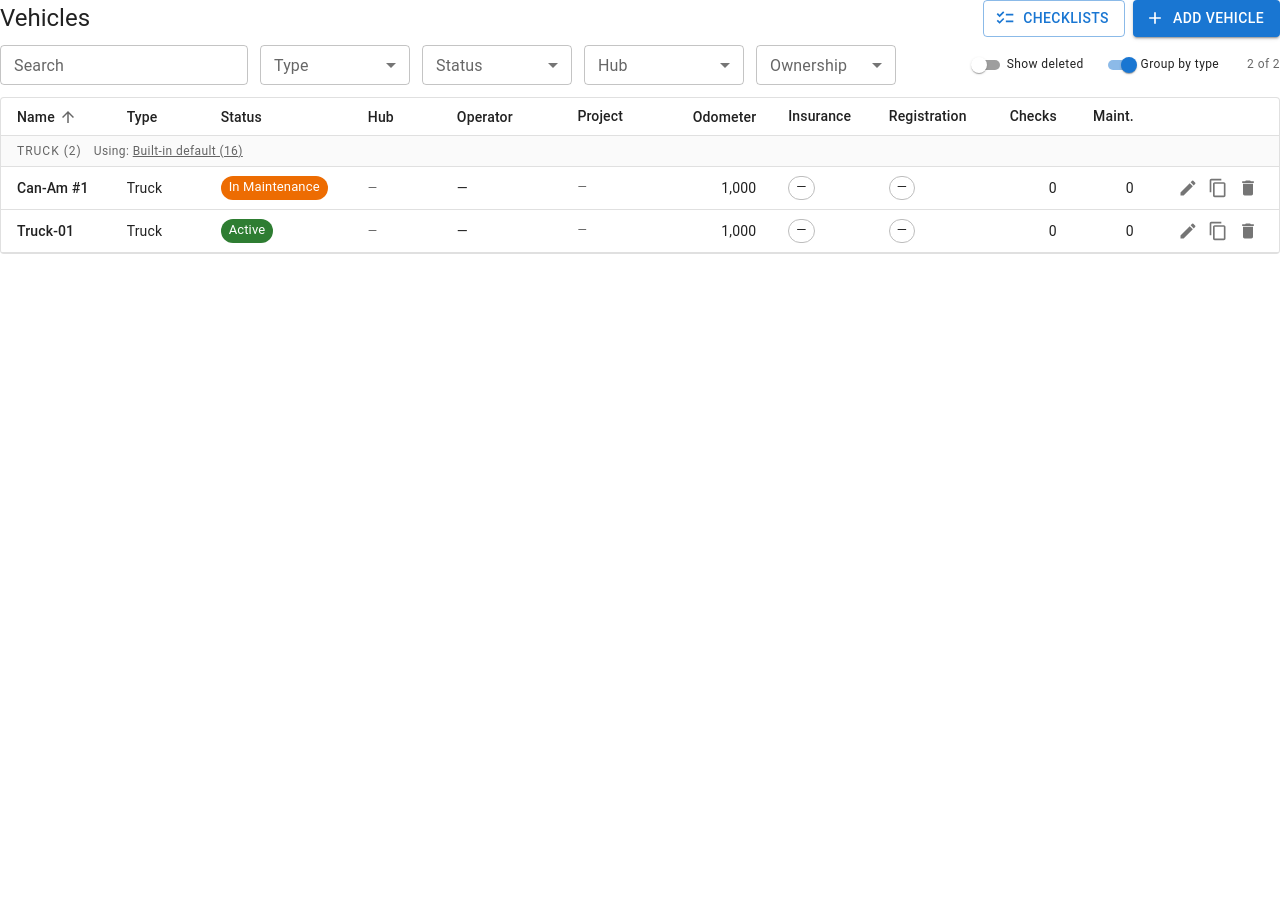
Test: vehicles — Delete, Undo, Show deleted → Restore, ?status= › Delete → toast with Undo, which posts restore
Expected: the text "Truck-01" is shown, [17,221,74,241]
Click the button named "Delete" in the row of "Truck-01". click: {"x": 1248, "y": 231}
box: [1233,216,1263,246]
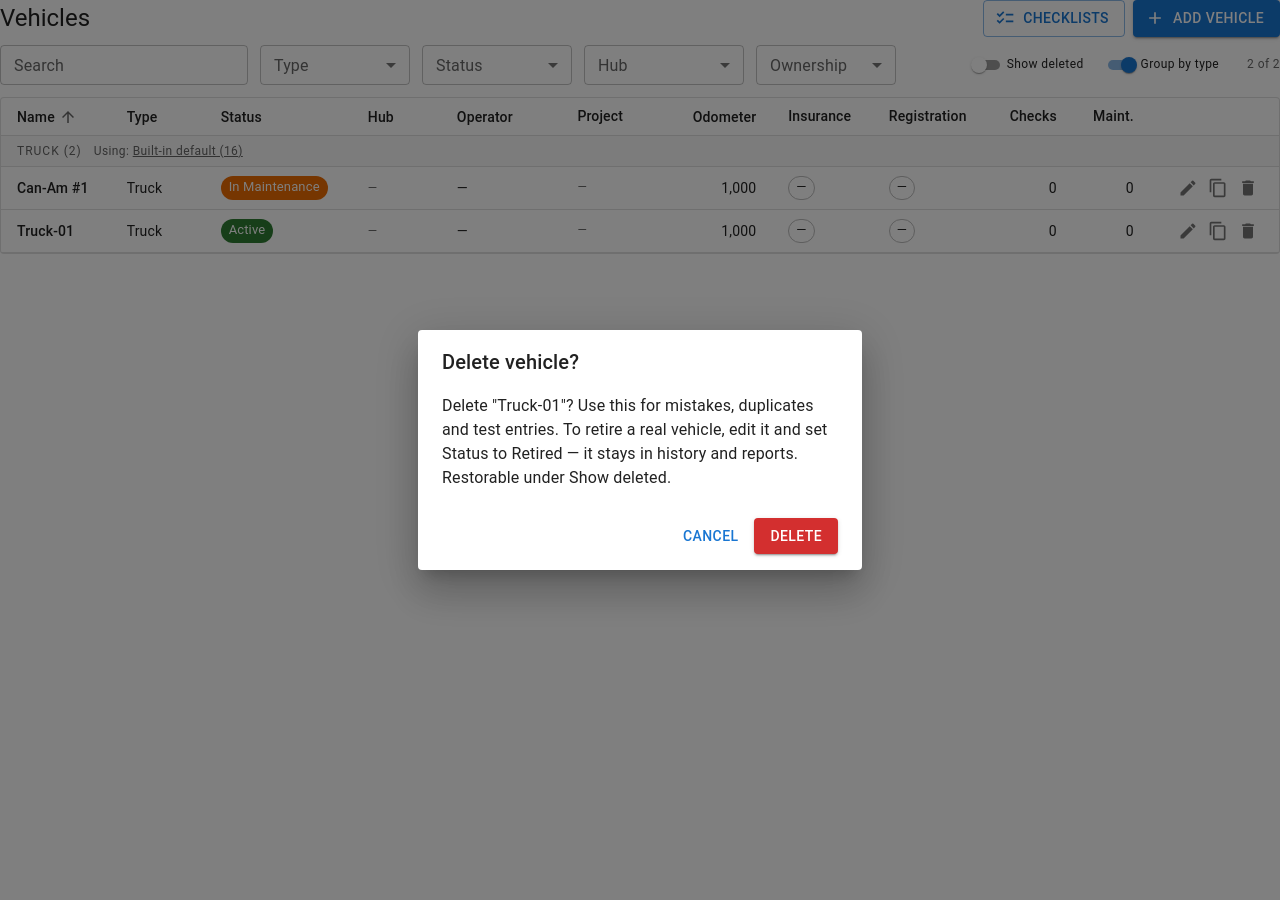
Click the button "Delete". click: {"x": 796, "y": 536}
box: [754,518,838,554]
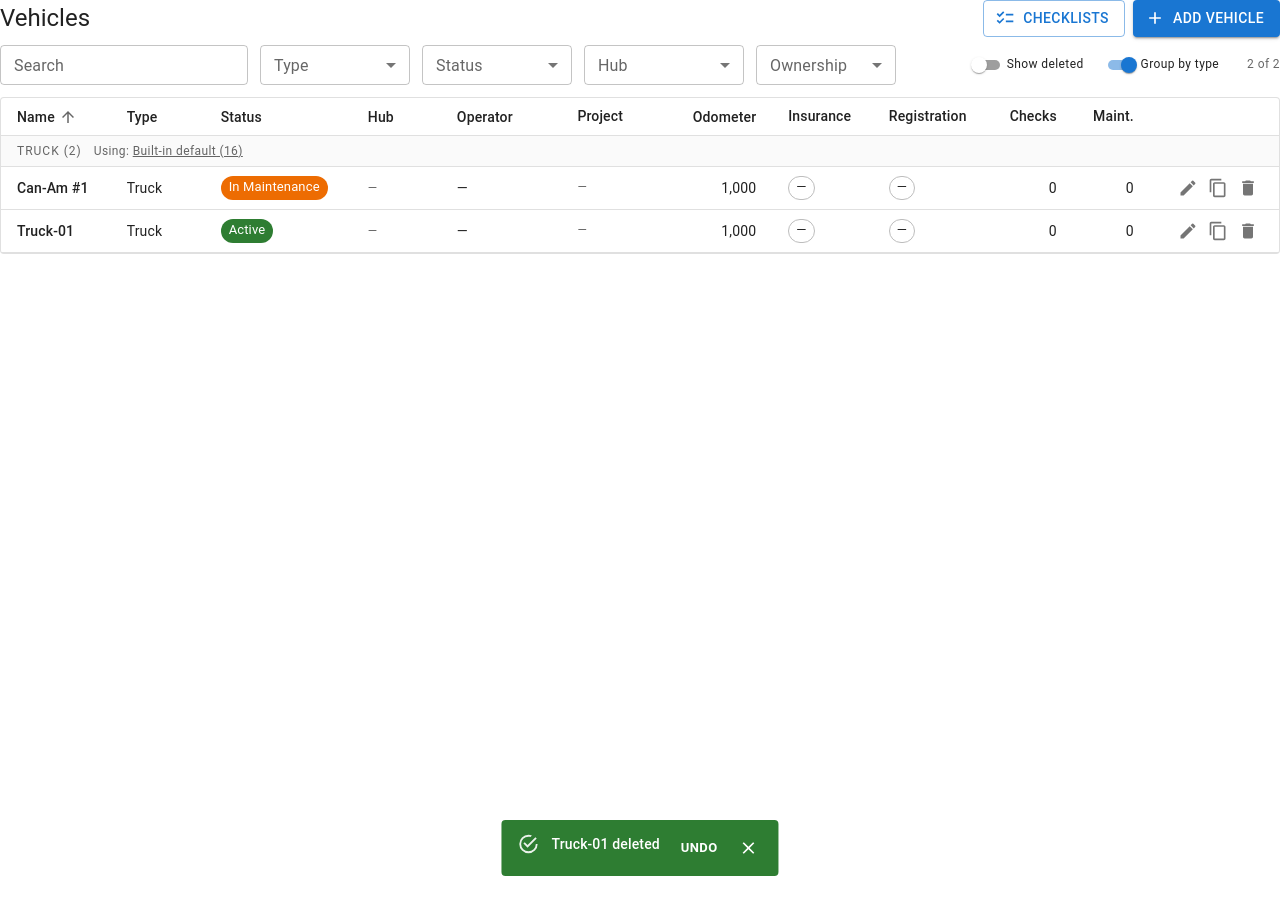
Click the button "Undo". click: {"x": 699, "y": 848}
box: [676,826,723,870]
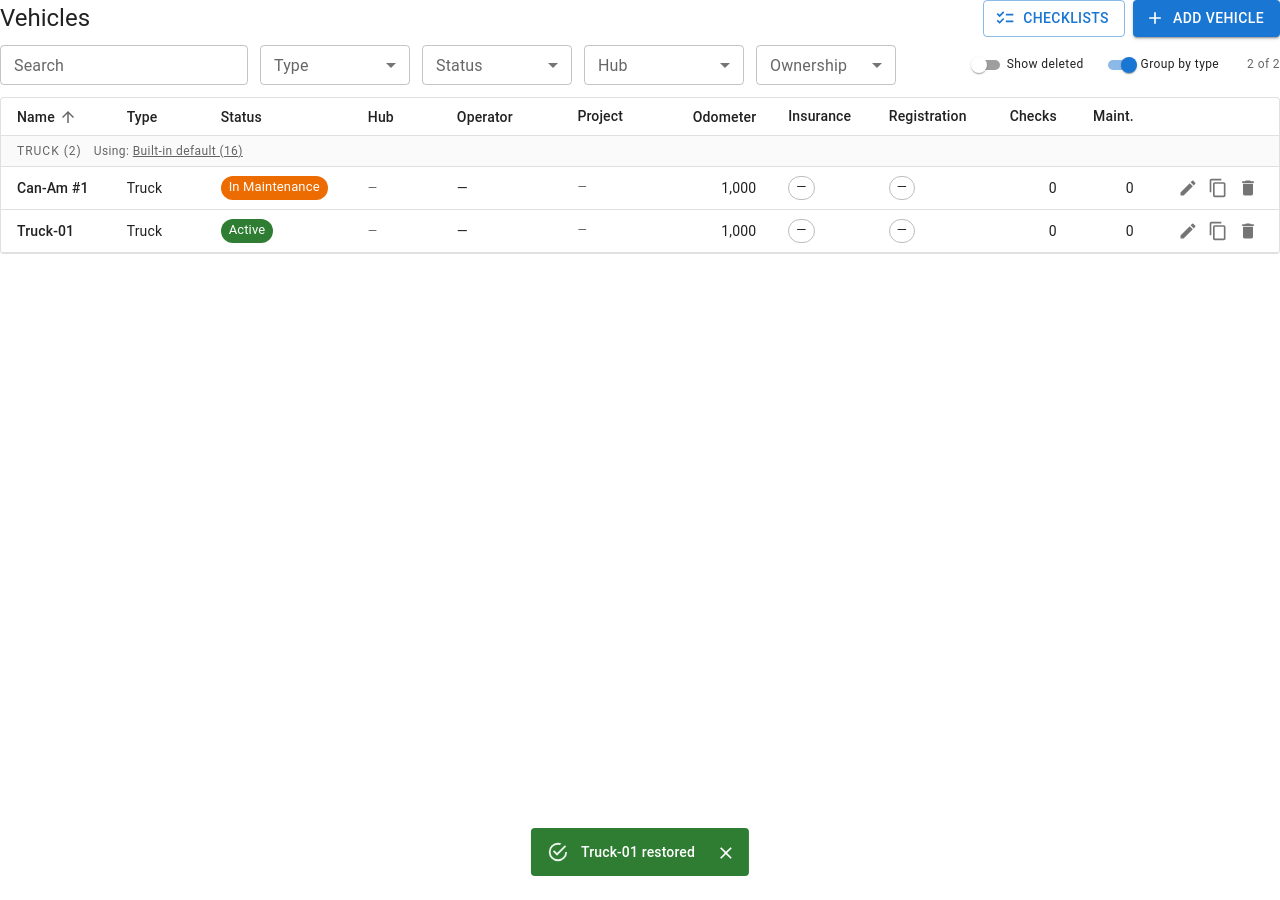
Expected: the text "Truck-01 restored" is shown, [581,844,695,860]
